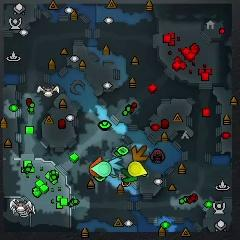p2: (91, 162, 112, 178)
p4: (128, 161, 148, 176)
p5: (89, 157, 103, 177)
x3: (107, 157, 125, 174)
x4: (122, 168, 138, 182)
x5: (131, 145, 148, 163)
